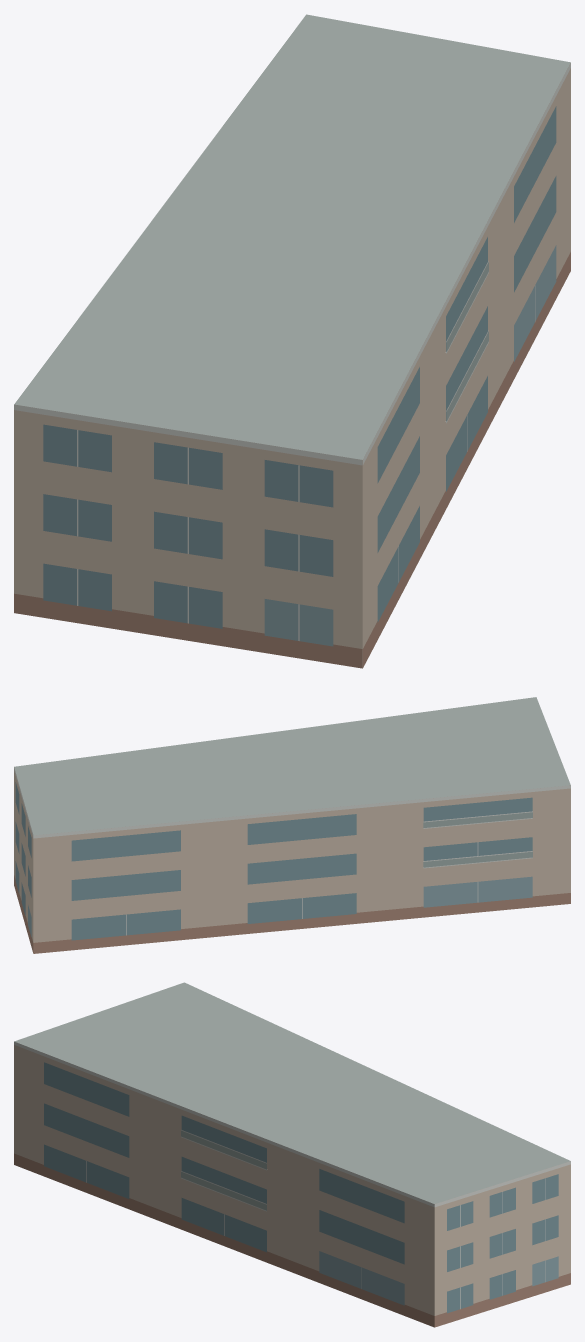
File: survey-upis-32470159.glb
3 renders of one model, top to bottom at view 1: azimuth 30°, elevation 25°; view 2: azimuth 150°, elevation 25°; view 3: azimuth 270°, elevation 25°, orthographic. The views are drawn at different scales.
Visible parts, largest first — view 1: survey-upis-32470159.tmp; view 2: survey-upis-32470159.tmp; view 3: survey-upis-32470159.tmp.
Boxes of the visible parts, x1,y1,x2,y2 form: survey-upis-32470159.tmp: [14, 14, 570, 668]; survey-upis-32470159.tmp: [14, 697, 570, 953]; survey-upis-32470159.tmp: [14, 982, 570, 1327].
Size of the model in its own units: 35.28 by 9.15 by 37.43.
